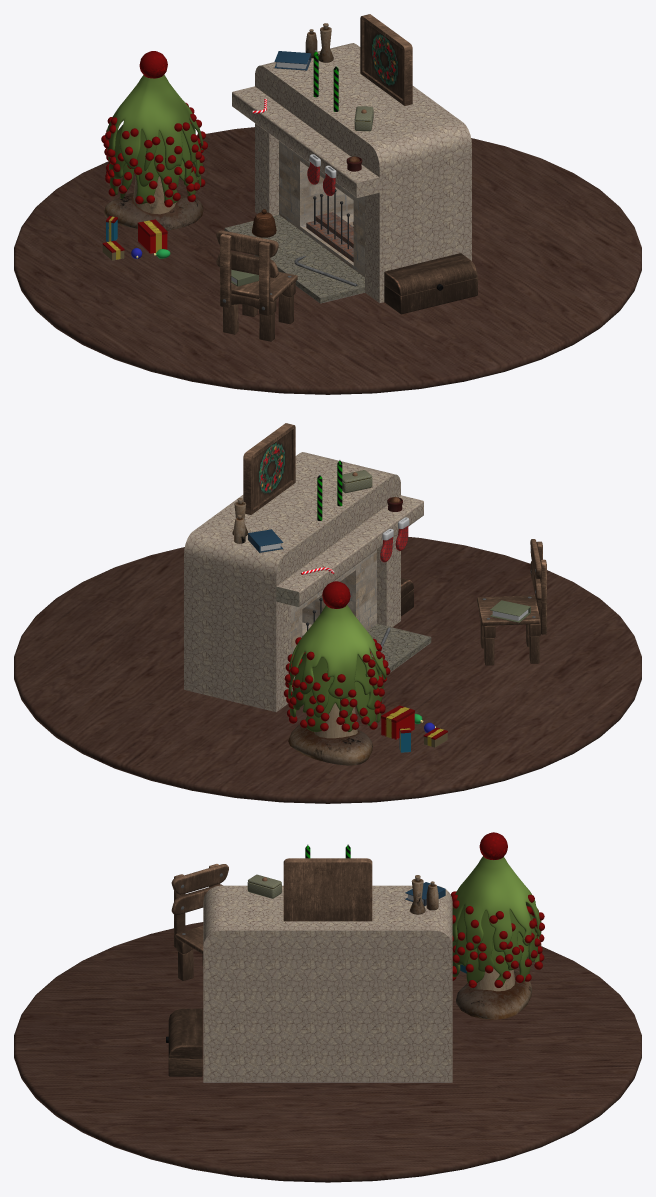
File: toFbx.fbx
The picture shows the model from 3 angles, top to bottom: view 1: azimuth 30°, elevation 25°; view 2: azimuth 150°, elevation 25°; view 3: azimuth 270°, elevation 25°; orthographic projection.
Visible parts, largest first — view 1: k60, s60, t60, i60, b60; view 2: k60, t60, s60, i60, b60; view 3: k60, t60, s60, i60.
Boxes of the visible parts, x1,y1,x2,y2 form: k60: (14, 43, 641, 394); s60: (216, 14, 477, 341); t60: (101, 51, 207, 230); i60: (231, 23, 373, 286); b60: (102, 216, 167, 260); k60: (14, 452, 641, 803); t60: (284, 581, 390, 765); s60: (243, 423, 546, 665); i60: (232, 459, 530, 651); b60: (381, 705, 447, 752); k60: (14, 885, 641, 1182); t60: (450, 832, 544, 1019); s60: (166, 858, 372, 1076); i60: (247, 844, 445, 914).
Size of the model in its own units: 1635 by 627 by 1630.
Materials: 5 (5 with a texture image).
